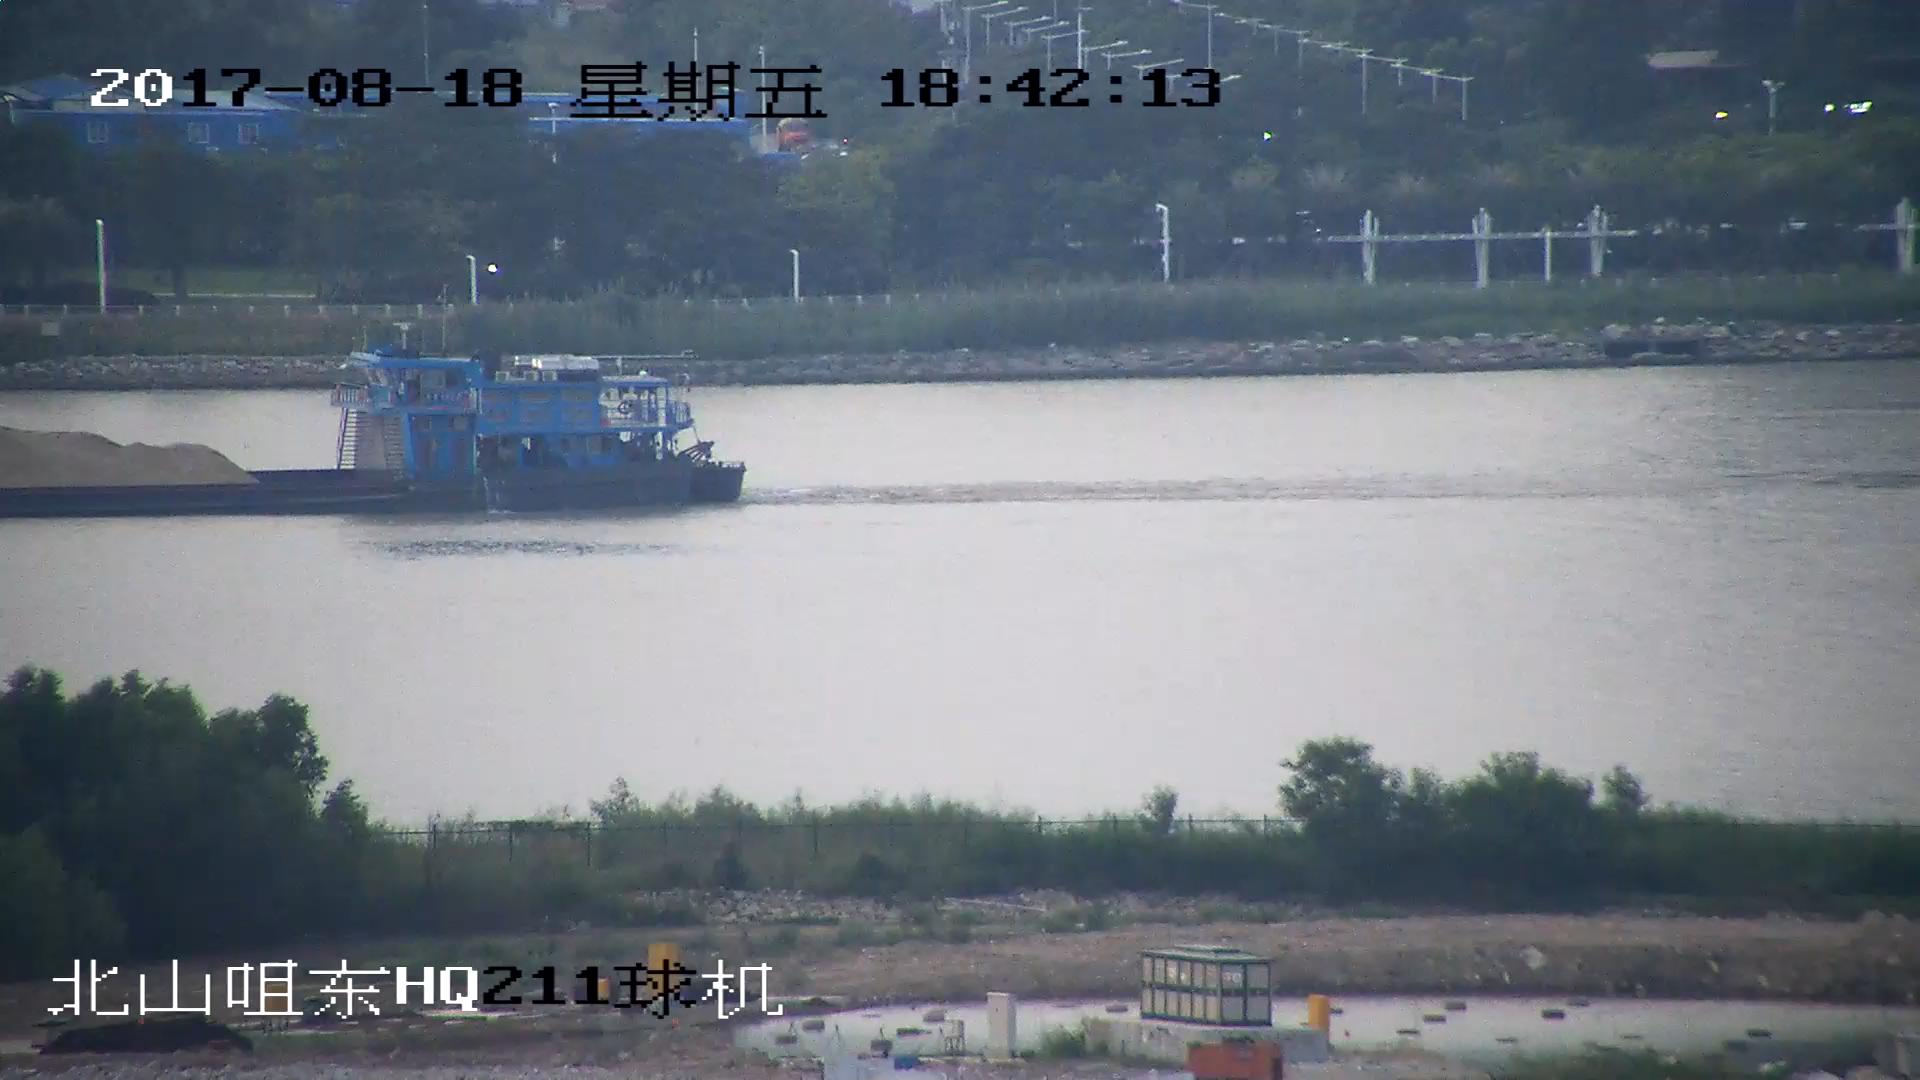ore carrier: (1, 321, 752, 518)
